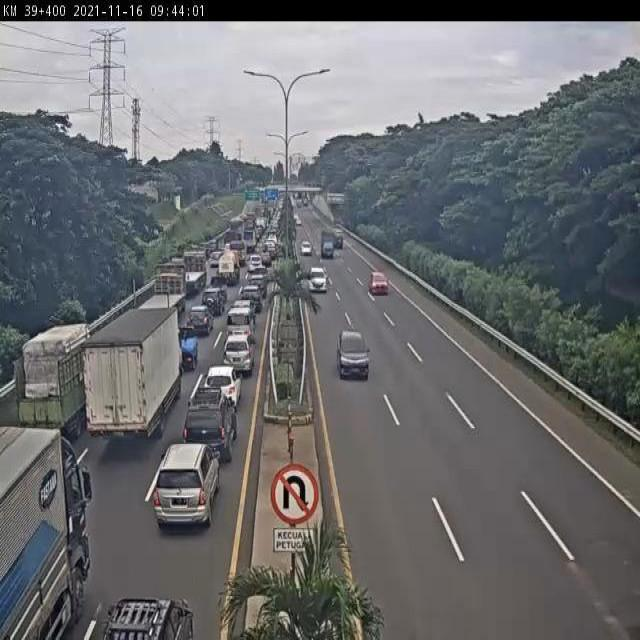car: (153, 441, 223, 528), (183, 387, 241, 464), (338, 326, 372, 382), (205, 364, 241, 411), (225, 334, 254, 378), (228, 303, 254, 347), (188, 306, 212, 338), (308, 265, 328, 295), (368, 269, 389, 296)
truck-m-: (82, 304, 183, 443), (10, 320, 108, 439)
